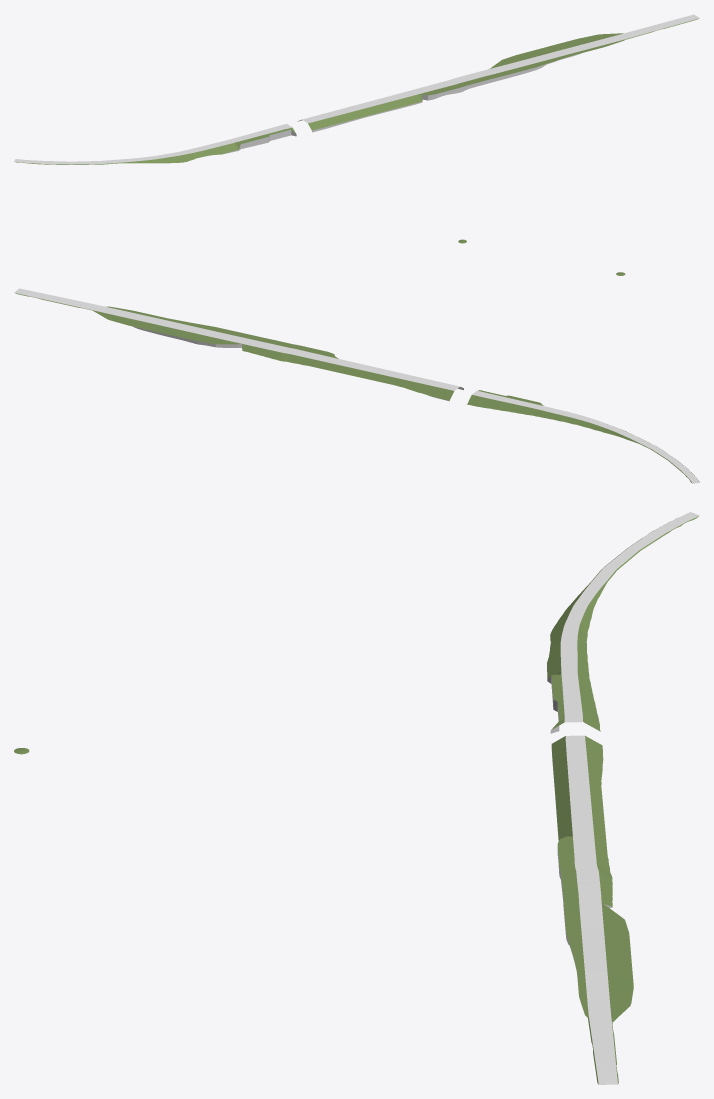
Rendered from campus_town_ground.glb.
3 renders of one model, top to bottom at view 1: azimuth 30°, elevation 25°; view 2: azimuth 150°, elevation 25°; view 3: azimuth 270°, elevation 25°, orthographic. The views are drawn at different scales.
Parts seen in each view (by area): view 1: town_bank_2, town_bank_1, town_bank_0, town_bank_3; view 2: town_bank_2, town_bank_1, town_bank_0, town_bank_3; view 3: town_bank_2, town_bank_1, town_bank_0, town_bank_3.
Boxes of the visible parts, x1=… form: town_bank_2: x1=400, y1=39, x2=590, y2=105; town_bank_1: x1=218, y1=93, x2=409, y2=153; town_bank_0: x1=14, y1=142, x2=226, y2=164; town_bank_3: x1=575, y1=14, x2=699, y2=50; town_bank_2: x1=133, y1=314, x2=350, y2=373; town_bank_1: x1=342, y1=361, x2=553, y2=418; town_bank_0: x1=546, y1=408, x2=699, y2=483; town_bank_3: x1=14, y1=288, x2=148, y2=326; town_bank_2: x1=557, y1=822, x2=633, y2=985; town_bank_1: x1=547, y1=661, x2=605, y2=830; town_bank_0: x1=547, y1=512, x2=699, y2=668; town_bank_3: x1=578, y1=984, x2=633, y2=1084.
Size of the model in its own units: 1273 by 14.27 by 642.
